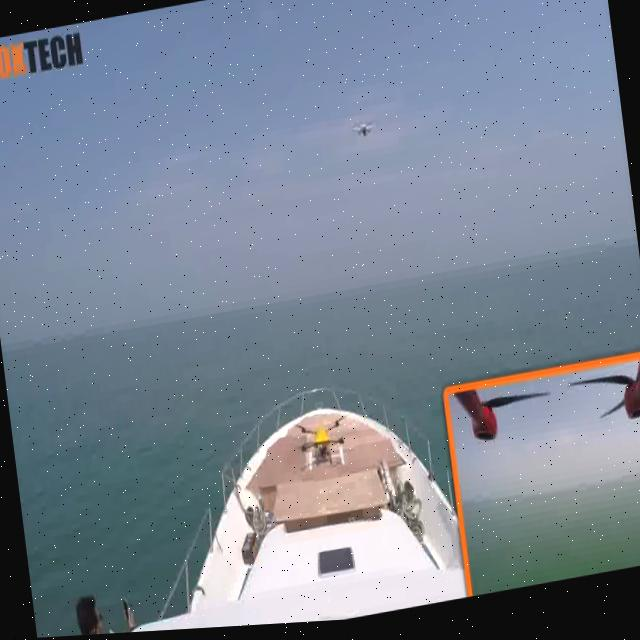drone: (278, 392, 358, 482), (344, 106, 384, 149)
